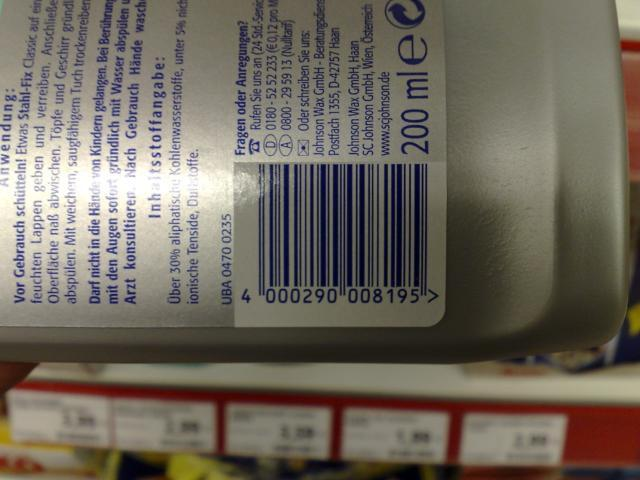Barcode: (238, 167, 434, 312)
